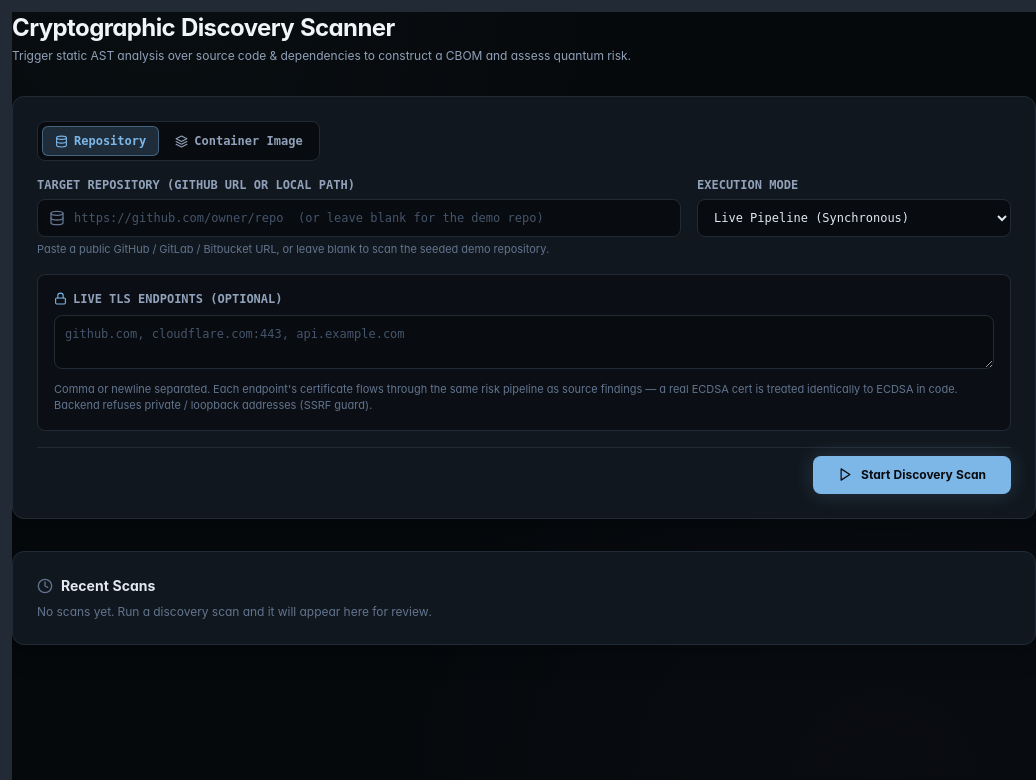
Test: ScanPage - TLS targets input (F2) › updates the target-count chip as the user types comma-separated hosts
The image size is (1036, 780).
Type "github.com, cloudflare.com:443" into the text box labelled "Live TLS endpoints (optional)".
click(524, 342); type("github.com, cloudflare.com:443")  # box [54,314,994,368]
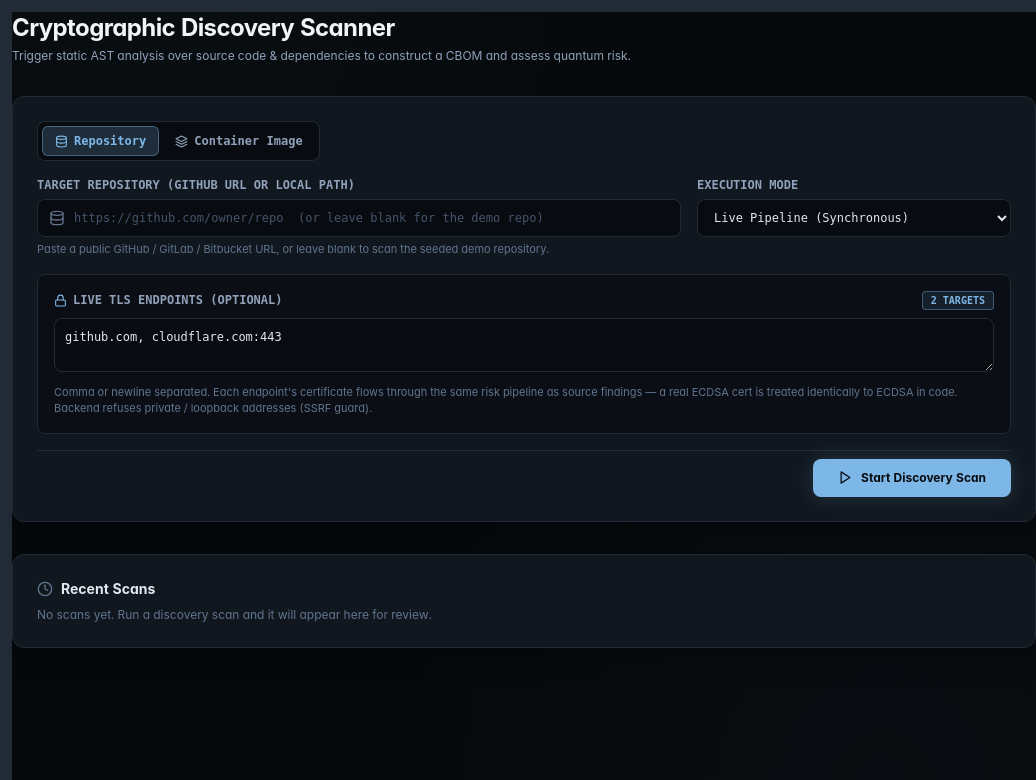
Check: the text with test id "tls-target-count" reads "2 targets", box [922,290,994,310]
